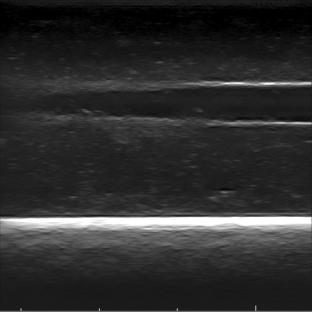vessel: (82, 79, 311, 129)
